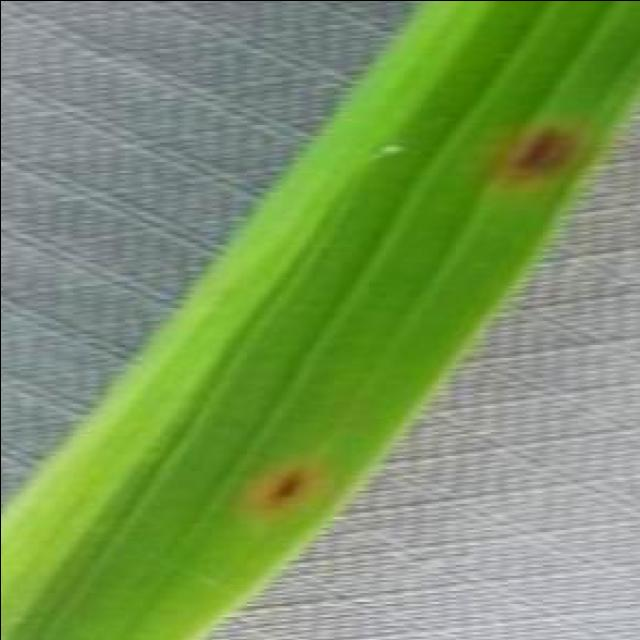Brown_Spot: (496, 116, 594, 202), (250, 457, 326, 527)
